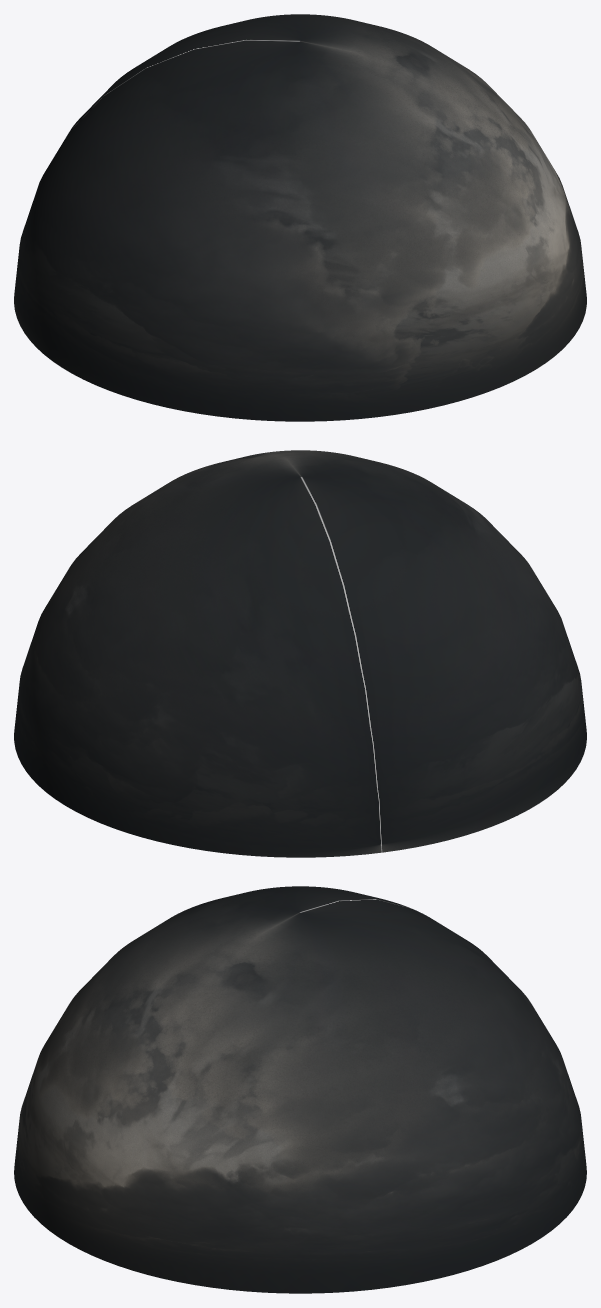
The model's file is SkyDome4.fbx.
The picture shows the model from 3 angles, top to bottom: view 1: azimuth 30°, elevation 25°; view 2: azimuth 150°, elevation 25°; view 3: azimuth 270°, elevation 25°; orthographic projection.
Parts seen in each view (by area): view 1: Sphere; view 2: Sphere; view 3: Sphere.
Part boxes in pixels (box(x1,y1,x2,y2)): Sphere: box(14, 14, 586, 421); Sphere: box(14, 450, 586, 857); Sphere: box(14, 886, 586, 1293).
Bounding box in the file's own units: 200 × 100 × 200.
Materials: 1 (1 with a texture image).
